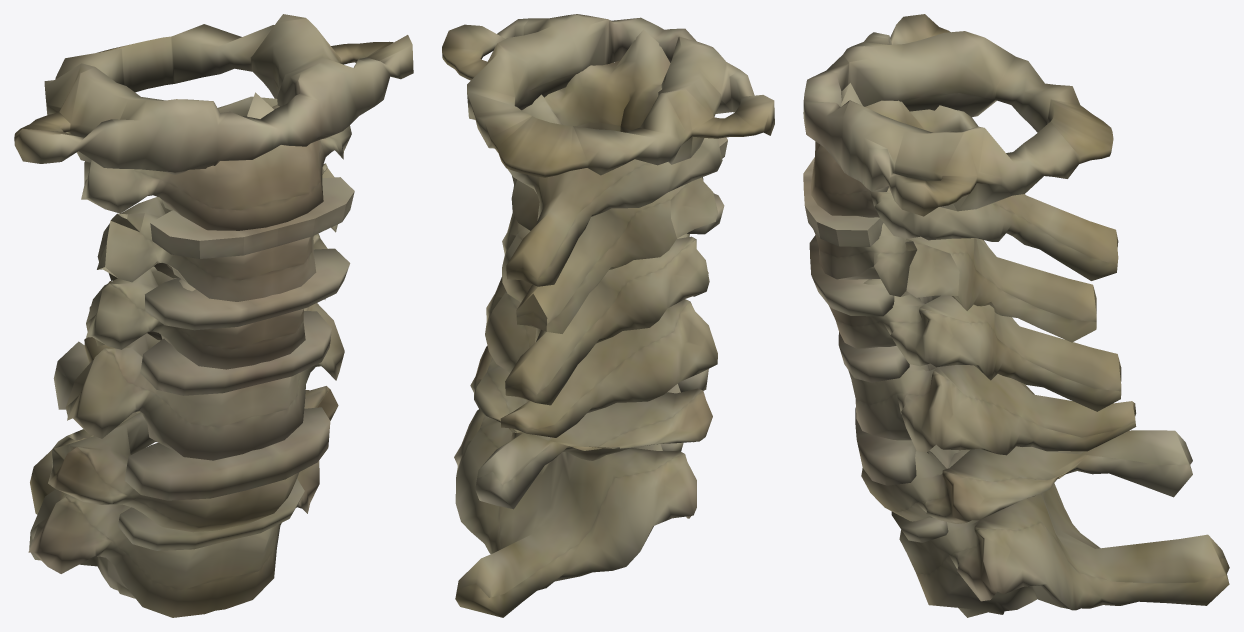
Rendered from 女性_骨骼系统_颈椎.fbx.
The picture shows the model from 3 angles, left to right: view 1: azimuth 30°, elevation 25°; view 2: azimuth 150°, elevation 25°; view 3: azimuth 270°, elevation 25°; orthographic projection. The views are drawn at different scales.
Visible parts, largest first — view 1: 女性_骨骼系统_颈椎; view 2: 女性_骨骼系统_颈椎; view 3: 女性_骨骼系统_颈椎.
Part boxes in pixels (left/top/right/bottom): 女性_骨骼系统_颈椎: left=14, top=14, right=413, bottom=617; 女性_骨骼系统_颈椎: left=442, top=14, right=774, bottom=617; 女性_骨骼系统_颈椎: left=803, top=14, right=1229, bottom=617.
Bounding box in the file's own units: 7.17 × 10.26 × 7.46.
